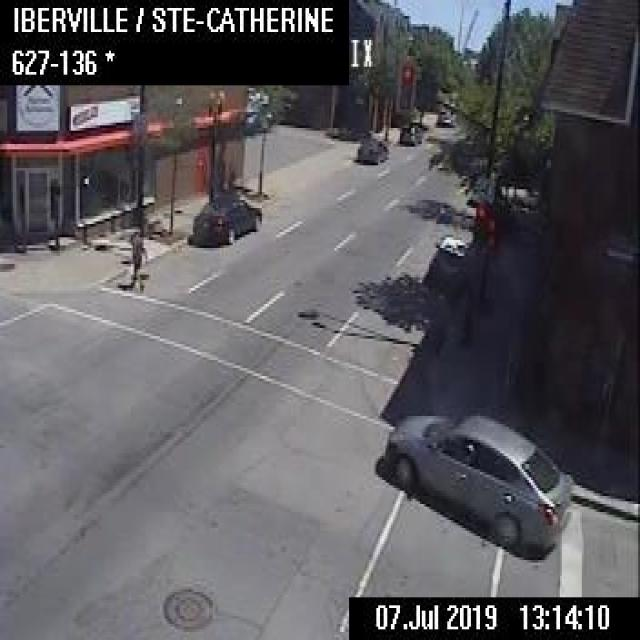pedestrian: (125, 228, 146, 290)
vehicle: (382, 408, 571, 549), (191, 191, 260, 244), (426, 234, 468, 294), (356, 136, 387, 162), (398, 121, 422, 144), (436, 102, 455, 125)
